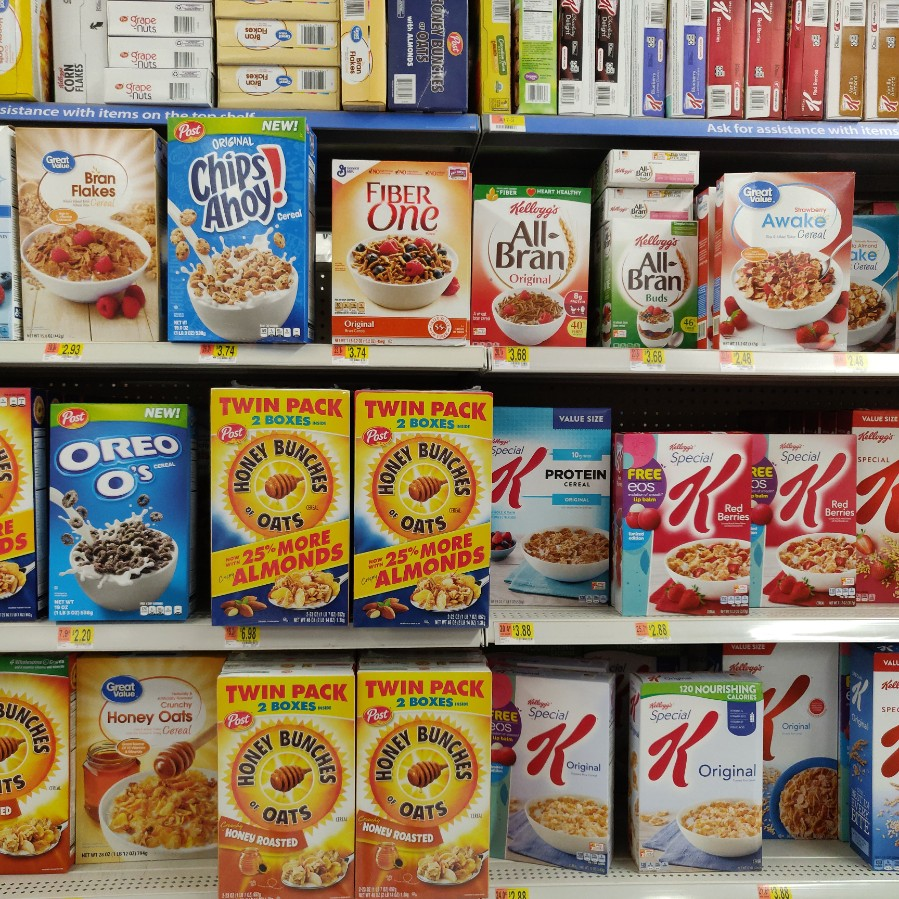Chips Ahoys-565717529: (168, 117, 316, 344)
Oreo-563424384: (48, 399, 195, 626)
